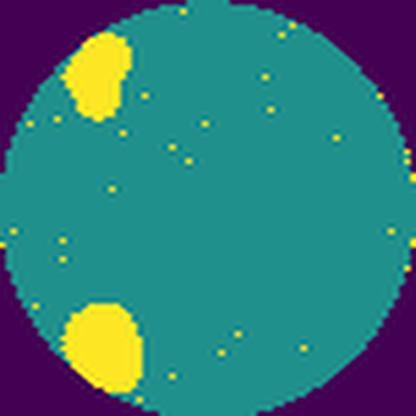Loc: (63, 300, 149, 397), (61, 30, 133, 121)
